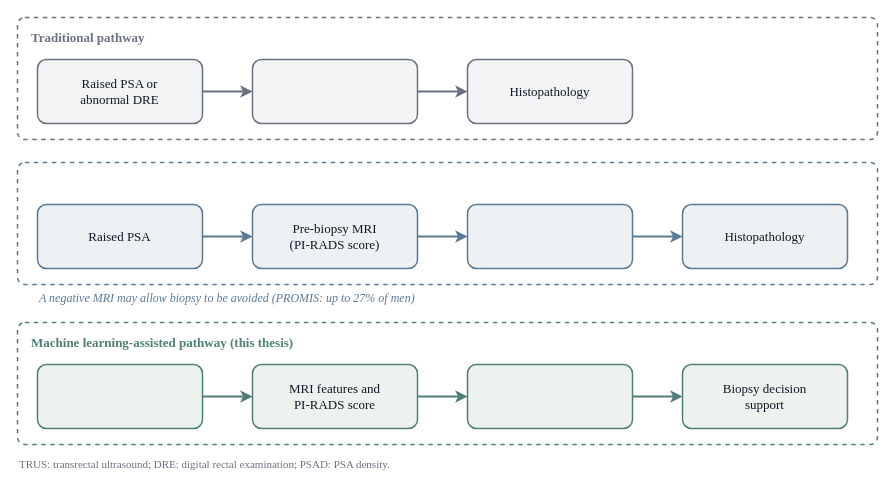
The diagram is 896 pixels wide and 494 high, and some of its shapes have lost their labels. Each missing label, with the box of its shape:
Clinical variables (age, PSA, PSAD, volume): (36, 363, 203, 429)
Model estimate of csPCa risk: (466, 363, 633, 429)
MRI-based pathway: (16, 161, 878, 285)
Systematic TRUS biopsy: (251, 58, 418, 124)
Targeted ± systematic biopsy: (466, 203, 633, 269)
